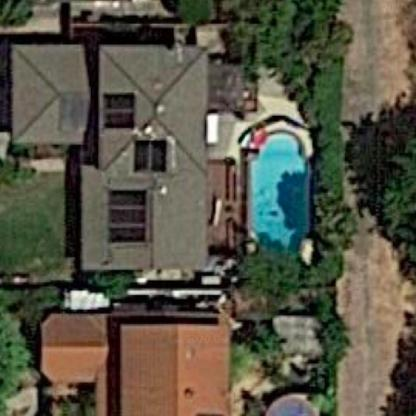solar_panel: (104, 183, 149, 250), (105, 85, 145, 139), (128, 132, 172, 176)
swimming_pool: (232, 115, 322, 272)
